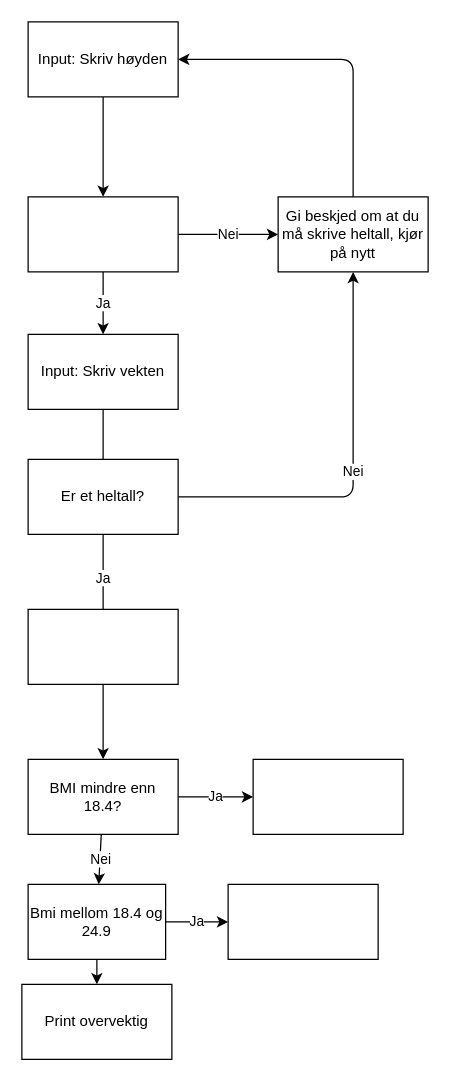
Image size: 450x1081. Some labels were removed from this diagram. Each missing label, with the centre of its shape:
"Er et heltall" belongs at [102,234].
"Kalkuler BMI" belongs at [102,646].
"Print normal vekt" belongs at [302,921].
"Print undervektig" belongs at [327,796].
